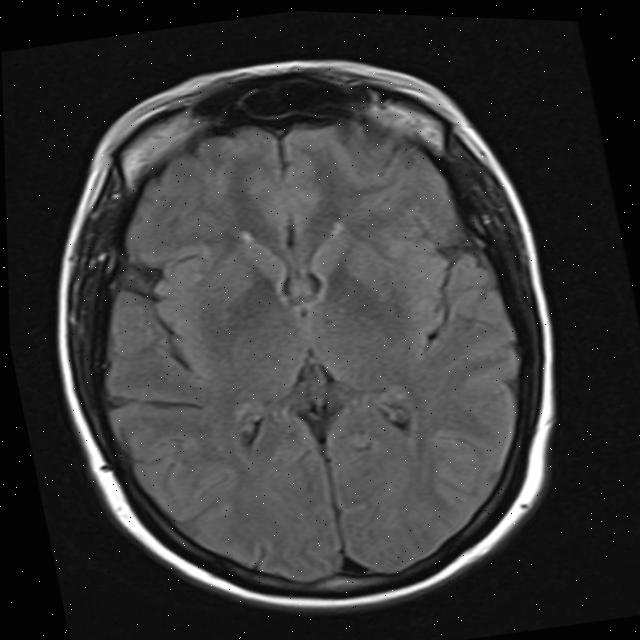NoTumor: (42, 71, 567, 628)
